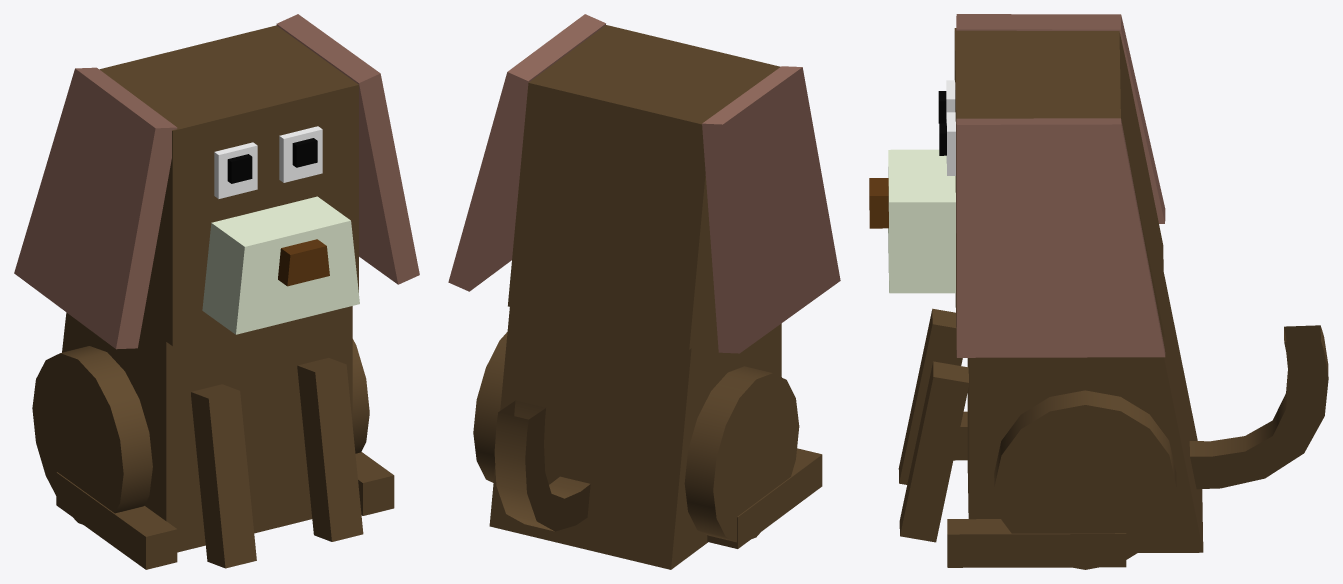
File: dogblack15C.dae
3 renders of one model, left to right at view 1: azimuth 30°, elevation 25°; view 2: azimuth 150°, elevation 25°; view 3: azimuth 270°, elevation 25°, orthographic. The views are drawn at different scales.
Parts seen in each view (by area): view 1: BODY&HEAD, EAR, back-LEG, for-LEG, NOSE, EYE (×2); view 2: BODY&HEAD, EAR, back-LEG, 自由曲面; view 3: EAR, BODY&HEAD, back-LEG, NOSE, for-LEG, 自由曲面, EYE (×2).
Part boxes in pixels (box(x1,y1,x2,y2)): BODY&HEAD: box(62, 25, 358, 552); EAR: box(14, 14, 419, 349); back-LEG: box(32, 339, 394, 569); for-LEG: box(191, 358, 363, 568); NOSE: box(202, 196, 359, 334); EYE (×2): box(214, 126, 322, 198); BODY&HEAD: box(489, 25, 781, 569); EAR: box(448, 14, 840, 353); back-LEG: box(473, 332, 822, 548); 自由曲面: box(494, 400, 590, 531); EAR: box(956, 14, 1165, 357); BODY&HEAD: box(954, 28, 1203, 552); back-LEG: box(947, 390, 1176, 569); NOSE: box(869, 149, 955, 293); for-LEG: box(898, 308, 968, 542); 自由曲面: box(1189, 325, 1328, 489); EYE (×2): box(938, 80, 955, 175).
Size of the model in its own units: 0.4303 by 0.5912 by 0.5572.
